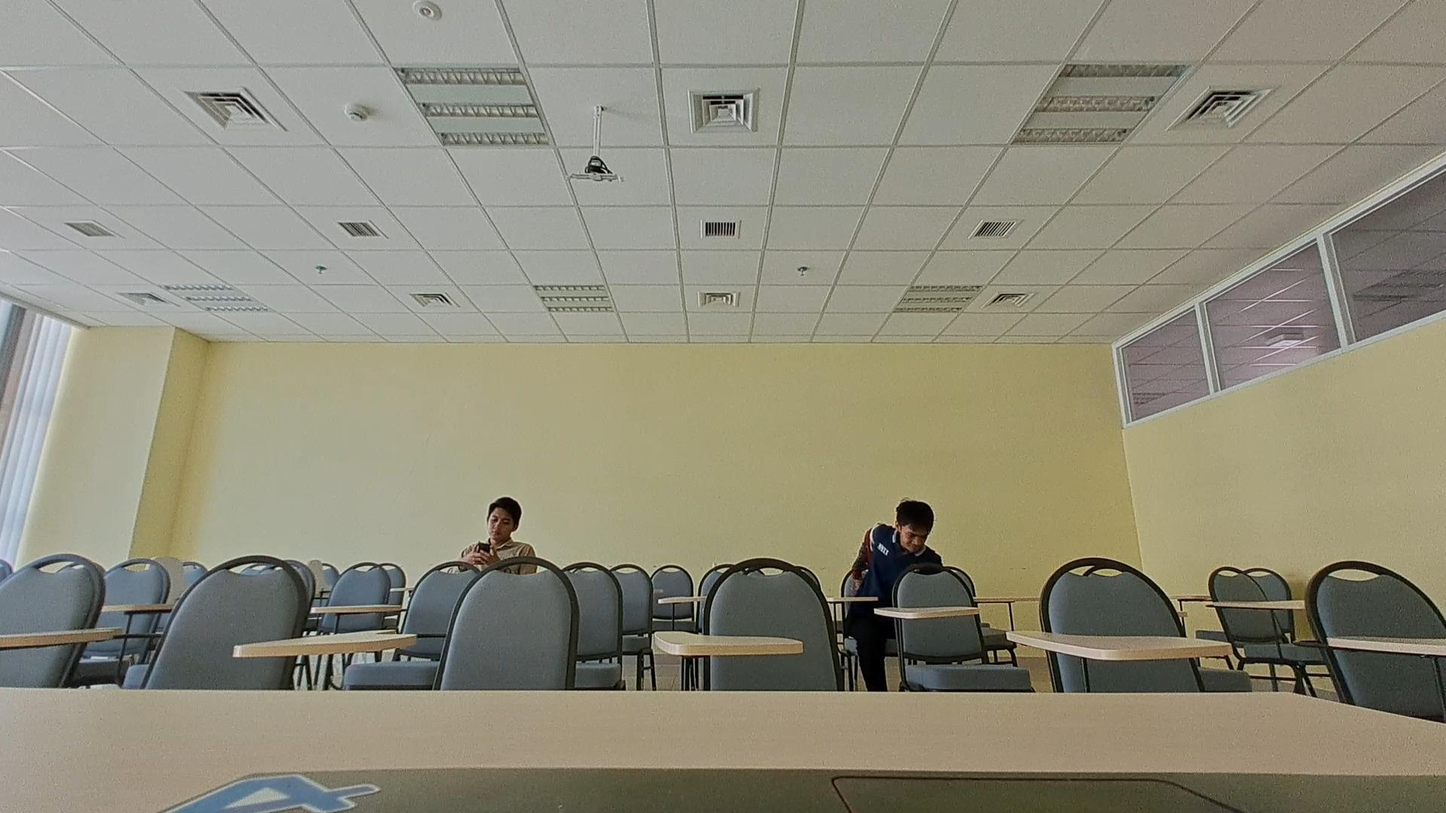phone: (450, 494, 533, 578)
